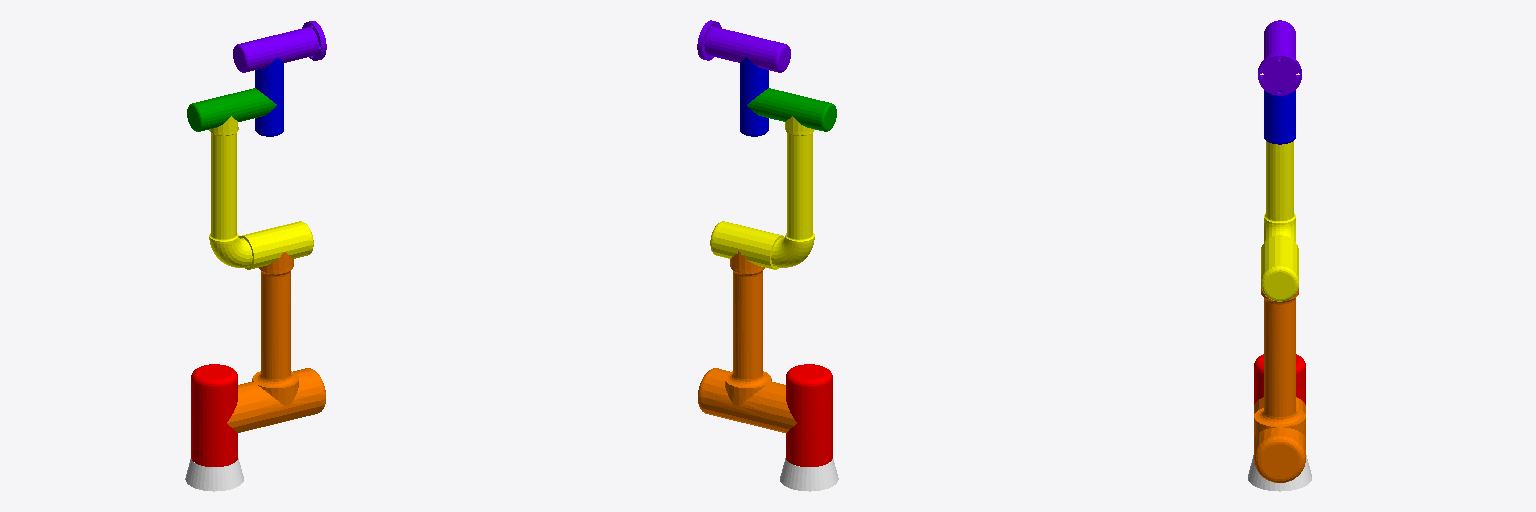
The robot description file, URDF, robot "6dof_robot":
<?xml version="1.0" encoding="utf-8"?>
<!-- This URDF was automatically created by SolidWorks to URDF Exporter! Originally created by [author] ([email redacted]) 
     Commit Version: 1.6.0-4-g7f85cfe  Build Version: 1.6.7995.38578
     For more information, please see http://wiki.ros.org/sw_urdf_exporter -->
<robot
  name="6dof_robot">
  <link
    name="base_link">
    <inertial>
      <origin
        xyz="-1.296E-18 1.8651E-34 0.018756"
        rpy="0 0 0" />
      <mass
        value="0.25871" />
      <inertia
        ixx="0.00016856"
        ixy="-6.1834E-37"
        ixz="-2.5521E-21"
        iyy="0.00016856"
        iyz="3.9096E-37"
        izz="0.00026732" />
    </inertial>
    <visual>
      <origin
        xyz="0 0 0"
        rpy="0 0 0" />
      <geometry>
        <mesh
          filename="package://6dof_robot/meshes/base_link.STL" />
      </geometry>
      <material
        name="">
        <color
          rgba="1 1 1 1" />
      </material>
    </visual>
    <collision>
      <origin
        xyz="0 0 0"
        rpy="0 0 0" />
      <geometry>
        <mesh
          filename="package://6dof_robot/meshes/base_link.STL" />
      </geometry>
    </collision>
  </link>
  <link
    name="link_0">
    <inertial>
      <origin
        xyz="-0.0047986 -2.0591E-07 0.07937"
        rpy="0 0 0" />
      <mass
        value="0.62849" />
      <inertia
        ixx="0.0018753"
        ixy="-1.8676E-11"
        ixz="1.8991E-06"
        iyy="0.0018426"
        iyz="4.9506E-12"
        izz="0.00049418" />
    </inertial>
    <visual>
      <origin
        xyz="0 0 0"
        rpy="0 0 0" />
      <geometry>
        <mesh
          filename="package://6dof_robot/meshes/link_0.STL" />
      </geometry>
      <material
        name="">
        <color
          rgba="1 0 0 1" />
      </material>
    </visual>
    <collision>
      <origin
        xyz="0 0 0"
        rpy="0 0 0" />
      <geometry>
        <mesh
          filename="package://6dof_robot/meshes/link_0.STL" />
      </geometry>
    </collision>
  </link>
  <joint
    name="joint_1"
    type="revolute">
    <origin
      xyz="0 0 0.0405"
      rpy="0 0 0" />
    <parent
      link="base_link" />
    <child
      link="link_0" />
    <axis
      xyz="0 0 1" />
    <limit
      lower="-6.2832"
      upper="6.2832"
      effort="0"
      velocity="3.1416" />
  </joint>
  <link
    name="link_1">
    <inertial>
      <origin
        xyz="0.1072 -4.8392E-07 0.064858"
        rpy="0 0 0" />
      <mass
        value="1.6017" />
      <inertia
        ixx="0.016333"
        ixy="1.0726E-08"
        ixz="-0.0013297"
        iyy="0.019385"
        iyz="1.2251E-07"
        izz="0.0040931" />
    </inertial>
    <visual>
      <origin
        xyz="0 0 0"
        rpy="0 0 0" />
      <geometry>
        <mesh
          filename="package://6dof_robot/meshes/link_1.STL" />
      </geometry>
      <material
        name="">
        <color
          rgba="1 0.5 0 1" />
      </material>
    </visual>
    <collision>
      <origin
        xyz="0 0 0"
        rpy="0 0 0" />
      <geometry>
        <mesh
          filename="package://6dof_robot/meshes/link_1.STL" />
      </geometry>
    </collision>
  </link>
  <joint
    name="joint_2"
    type="revolute">
    <origin
      xyz="0 0 0.08"
      rpy="0 0 0" />
    <parent
      link="link_0" />
    <child
      link="link_1" />
    <axis
      xyz="1 0 0" />
    <limit
      lower="-3.1416"
      upper="3.1416"
      effort="0"
      velocity="3.1416" />
  </joint>
  <link
    name="link_2">
    <inertial>
      <origin
        xyz="-0.05911 9.0122E-19 0.074306"
        rpy="0 0 0" />
      <mass
        value="0.83881" />
      <inertia
        ixx="0.0073165"
        ixy="5.9473E-20"
        ixz="0.0026694"
        iyy="0.0096228"
        iyz="-3.396E-20"
        izz="0.002593" />
    </inertial>
    <visual>
      <origin
        xyz="0 0 0"
        rpy="0 0 0" />
      <geometry>
        <mesh
          filename="package://6dof_robot/meshes/link_2.STL" />
      </geometry>
      <material
        name="">
        <color
          rgba="1 1 0 1" />
      </material>
    </visual>
    <collision>
      <origin
        xyz="0 0 0"
        rpy="0 0 0" />
      <geometry>
        <mesh
          filename="package://6dof_robot/meshes/link_2.STL" />
      </geometry>
    </collision>
  </link>
  <joint
    name="joint_3"
    type="revolute">
    <origin
      xyz="0.12 0 0.29"
      rpy="0 0 0" />
    <parent
      link="link_1" />
    <child
      link="link_2" />
    <axis
      xyz="1 0 0" />
    <limit
      lower="-3.1416"
      upper="3.1416"
      effort="0"
      velocity="3.1416" />
  </joint>
  <link
    name="link_3">
    <inertial>
      <origin
        xyz="0.017716 5.7646E-09 0.0018258"
        rpy="0 0 0" />
      <mass
        value="0.25205" />
      <inertia
        ixx="7.8585E-05"
        ixy="4.51E-12"
        ixz="8.1528E-06"
        iyy="0.00056767"
        iyz="1.261E-11"
        izz="0.00057024" />
    </inertial>
    <visual>
      <origin
        xyz="0 0 0"
        rpy="0 0 0" />
      <geometry>
        <mesh
          filename="package://6dof_robot/meshes/link_3.STL" />
      </geometry>
      <material
        name="">
        <color
          rgba="0 0.65 0 1" />
      </material>
    </visual>
    <collision>
      <origin
        xyz="0 0 0"
        rpy="0 0 0" />
      <geometry>
        <mesh
          filename="package://6dof_robot/meshes/link_3.STL" />
      </geometry>
    </collision>
  </link>
  <joint
    name="joint_4"
    type="revolute">
    <origin
      xyz="-0.102 0 0.276"
      rpy="0 0 0" />
    <parent
      link="link_2" />
    <child
      link="link_3" />
    <axis
      xyz="0 0 1" />
    <limit
      lower="-3.1416"
      upper="3.1416"
      effort="0"
      velocity="5.236" />
  </joint>
  <link
    name="link_4">
    <inertial>
      <origin
        xyz="0.0018257 -8.8581E-08 0.017716"
        rpy="0 0 0" />
      <mass
        value="0.25205" />
      <inertia
        ixx="0.00057024"
        ixy="-7.7669E-10"
        ixz="8.1528E-06"
        iyy="0.00056766"
        iyz="-3.0278E-10"
        izz="7.8585E-05" />
    </inertial>
    <visual>
      <origin
        xyz="0 0 0"
        rpy="0 0 0" />
      <geometry>
        <mesh
          filename="package://6dof_robot/meshes/link_4.STL" />
      </geometry>
      <material
        name="">
        <color
          rgba="0 0 1 1" />
      </material>
    </visual>
    <collision>
      <origin
        xyz="0 0 0"
        rpy="0 0 0" />
      <geometry>
        <mesh
          filename="package://6dof_robot/meshes/link_4.STL" />
      </geometry>
    </collision>
  </link>
  <joint
    name="joint_5"
    type="revolute">
    <origin
      xyz="0.09 0 0"
      rpy="0 0 0" />
    <parent
      link="link_3" />
    <child
      link="link_4" />
    <axis
      xyz="1 0 0" />
    <limit
      lower="-3.1416"
      upper="3.1416"
      effort="0"
      velocity="5.236" />
  </joint>
  <link
    name="link_5">
    <inertial>
      <origin
        xyz="0.022589 -1.0021E-06 0.0016987"
        rpy="0 0 0" />
      <mass
        value="0.27088" />
      <inertia
        ixx="9.3405E-05"
        ixy="1.7584E-08"
        ixz="1.0399E-05"
        iyy="0.00066141"
        iyz="-3.002E-09"
        izz="0.00066393" />
    </inertial>
    <visual>
      <origin
        xyz="0 0 0"
        rpy="0 0 0" />
      <geometry>
        <mesh
          filename="package://6dof_robot/meshes/link_5.STL" />
      </geometry>
      <material
        name="">
        <color
          rgba="0.5 0 1 1" />
      </material>
    </visual>
    <collision>
      <origin
        xyz="0 0 0"
        rpy="0 0 0" />
      <geometry>
        <mesh
          filename="package://6dof_robot/meshes/link_5.STL" />
      </geometry>
    </collision>
  </link>
  <joint
    name="joint_6"
    type="revolute">
    <origin
      xyz="0 0 0.09"
      rpy="0 0 0" />
    <parent
      link="link_4" />
    <child
      link="link_5" />
    <axis
      xyz="0 0 -1" />
    <limit
      lower="-6.283188"
      upper="6.283188"
      effort="0"
      velocity="5.23599" />
  </joint>
</robot>

--- Render facts (derived) ---
3 views of the same robot in one strip: view 1: azimuth 30°, elevation 25°; view 2: azimuth 150°, elevation 25°; view 3: azimuth 270°, elevation 25° (orthographic).
Model 6dof_robot with 7 links and 6 joints (6 revolute), rooted at base_link, posed all joints at 0.
Links seen in each view (by area): view 1: link_1, link_2, link_0, link_5, link_3, link_4, base_link; view 2: link_1, link_2, link_0, link_5, link_3, link_4, base_link; view 3: link_1, link_2, link_5, link_4, link_0, base_link.
Boxes of the visible links, x1,y1,x2,y2 form: link_1: (227,252,325,432); link_2: (209,116,313,269); link_0: (191,364,237,466); link_5: (233,21,326,72); link_3: (187,88,276,131); link_4: (255,57,283,136); base_link: (185,458,243,491); link_1: (698,251,796,432); link_2: (710,116,814,269); link_0: (786,364,832,466); link_5: (697,20,790,72); link_3: (747,88,836,131); link_4: (740,57,768,136); base_link: (780,458,838,491); link_1: (1254,289,1305,482); link_2: (1261,141,1298,301); link_5: (1258,20,1301,95); link_4: (1264,90,1295,144); link_0: (1254,354,1305,404); base_link: (1248,455,1311,491).
Bounding box of the posed robot: 0.25 × 0.0997 × 0.8106 m (x, y, z).
Meshes: 7 distinct files referenced, 7 mesh visuals loaded (7 binary STL).